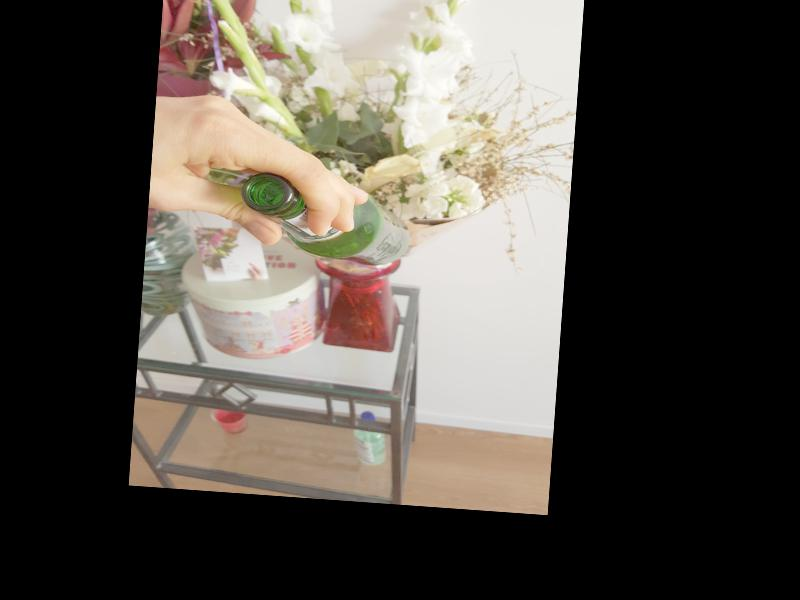Beer: (237, 172, 413, 269)
